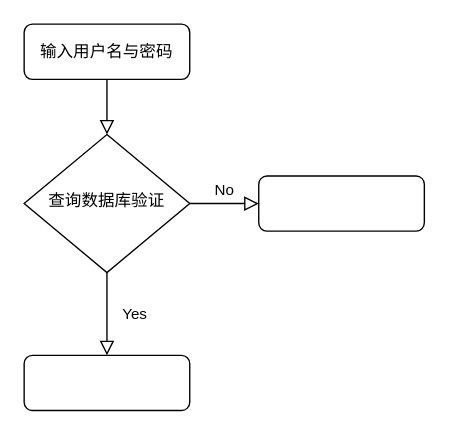
Some shapes in this 449 by 435 pixel diagram are drawn without their labels. Here are the shapes that lost their labels. From the top down, the centre of each, then its label:
At point (340, 203): "显示失败提示".
At point (106, 382): "显示主界面".
